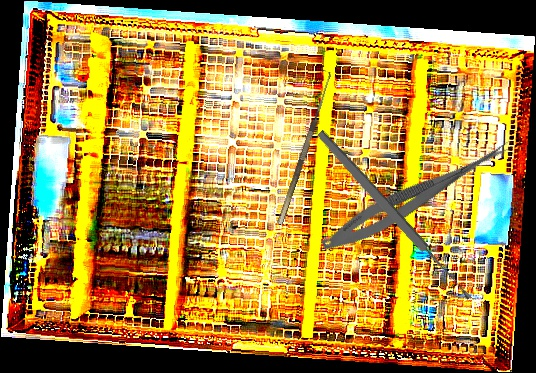Hook Surgical: (269, 69, 335, 225)
Micro Scissor: (317, 128, 517, 261)
Surgical Spoon: (315, 128, 474, 303)
